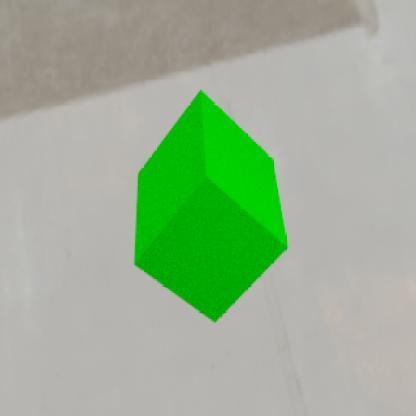cube: (132, 86, 288, 322)
